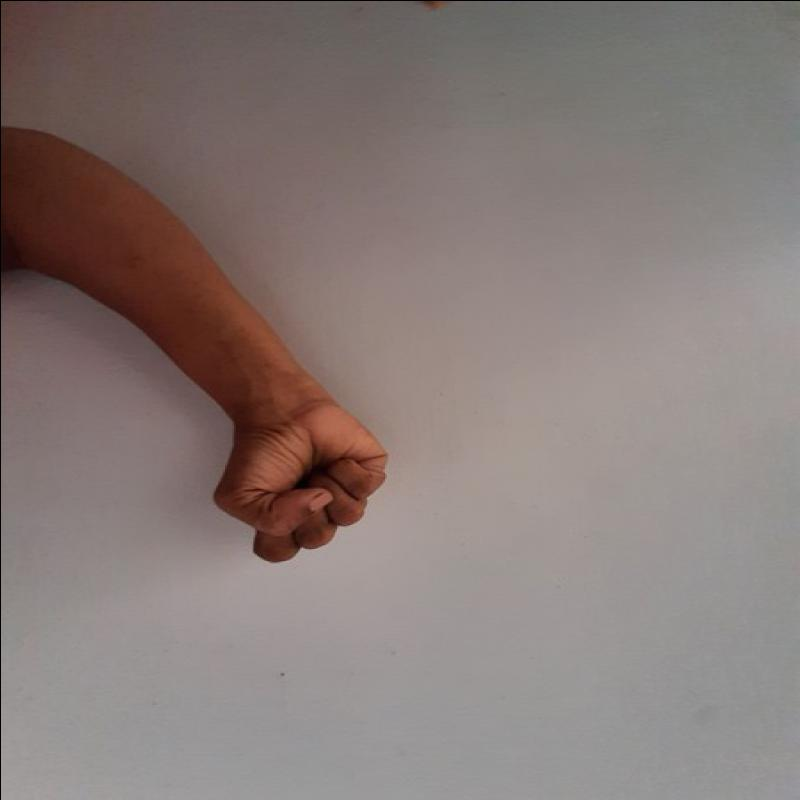Mushti: (206, 384, 398, 576)
